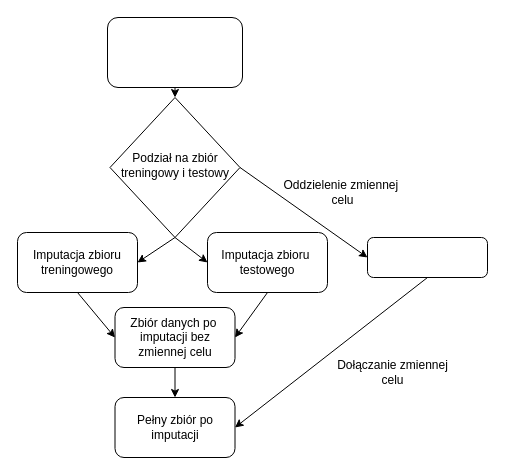
The diagram is 505 pixels wide and 475 high, and some of its shapes have lost their labels. Each missing label, with the centre of its shape:
"Oczyszczony zbiór danych" belongs at [174,52].
"Zmienna celu" belongs at [427,257].
